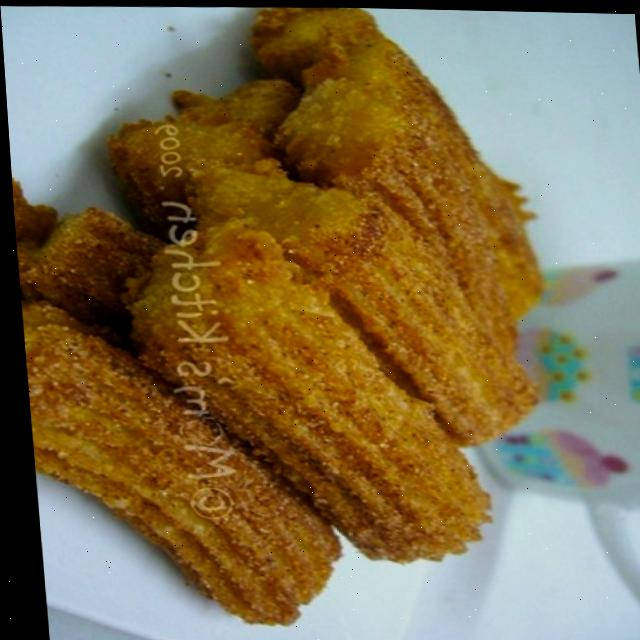炸货点心: (8, 0, 582, 622)
